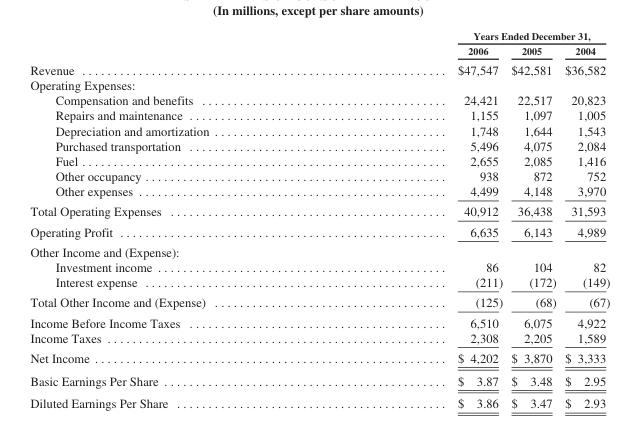table: (29, 29, 609, 410)
table column: (29, 29, 332, 410), (332, 29, 506, 410), (506, 29, 559, 410), (559, 29, 609, 410)
table column header: (29, 29, 609, 59)
table projected row header: (29, 241, 609, 259), (29, 77, 609, 92)
table row: (29, 368, 609, 391), (29, 291, 609, 312), (29, 347, 609, 368), (29, 201, 609, 221), (29, 221, 609, 241), (29, 391, 609, 410), (29, 59, 609, 77), (29, 183, 609, 201), (29, 241, 609, 259), (29, 329, 609, 347), (29, 42, 609, 59), (29, 274, 609, 291), (29, 312, 609, 329), (29, 137, 609, 153), (29, 77, 609, 92), (29, 92, 609, 107), (29, 107, 609, 122), (29, 122, 609, 137), (29, 153, 609, 168), (29, 168, 609, 183), (29, 259, 609, 274), (29, 29, 609, 42)
table spanning cell: (332, 29, 609, 42)
